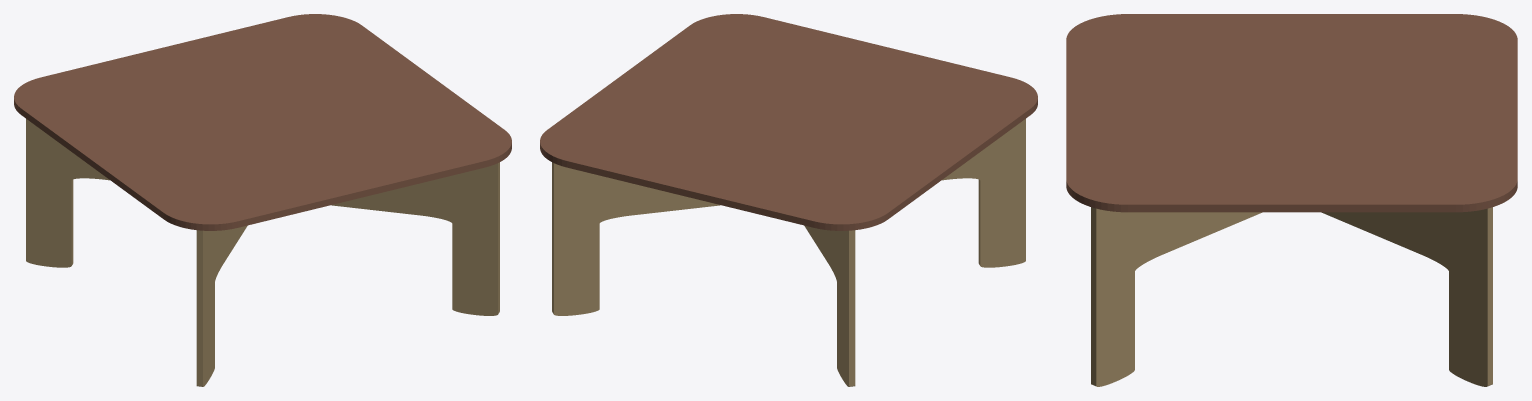
The picture shows the model from 3 angles, left to right: view 1: azimuth 30°, elevation 25°; view 2: azimuth 150°, elevation 25°; view 3: azimuth 270°, elevation 25°; orthographic projection. The views are drawn at different scales.
Visible parts, largest first — view 1: 天板, 脚２, 脚１; view 2: 天板, 脚１, 脚２; view 3: 天板, 脚１, 脚２.
Boxes of the visible parts, x1,y1,x2,y2 form: 天板: [14, 14, 511, 230]; 脚２: [26, 119, 499, 315]; 脚１: [196, 225, 247, 386]; 天板: [540, 14, 1037, 230]; 脚１: [552, 119, 1025, 315]; 脚２: [804, 225, 855, 386]; 天板: [1066, 14, 1517, 212]; 脚１: [1321, 207, 1492, 386]; 脚２: [1091, 207, 1262, 386].
Size of the model in its own units: 392 by 187 by 392.
